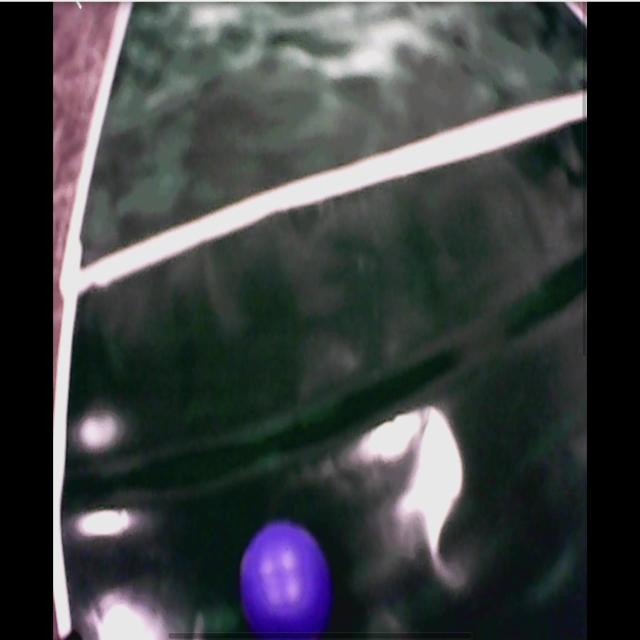ball: (240, 524, 330, 636)
